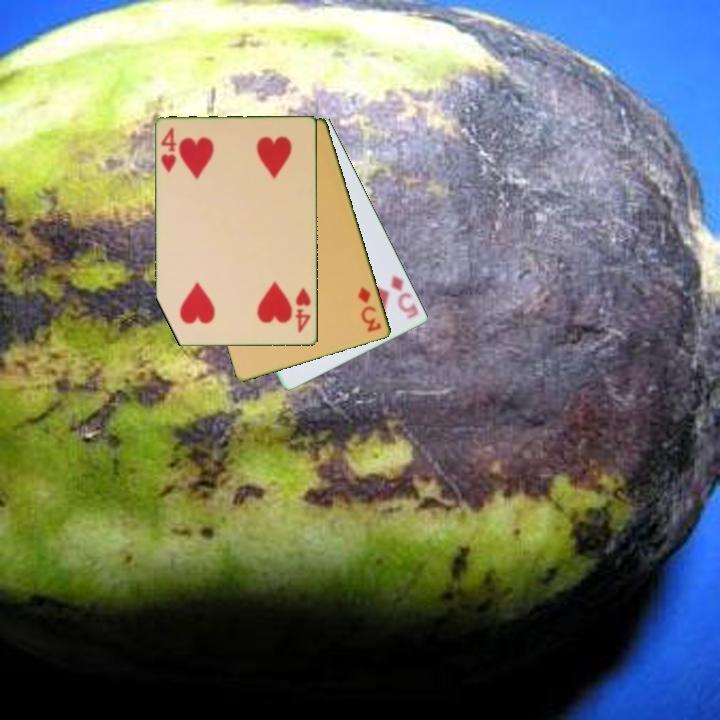3d: (354, 283, 384, 335)
4h: (292, 284, 314, 336), (158, 124, 180, 175)
5d: (387, 272, 422, 322)
